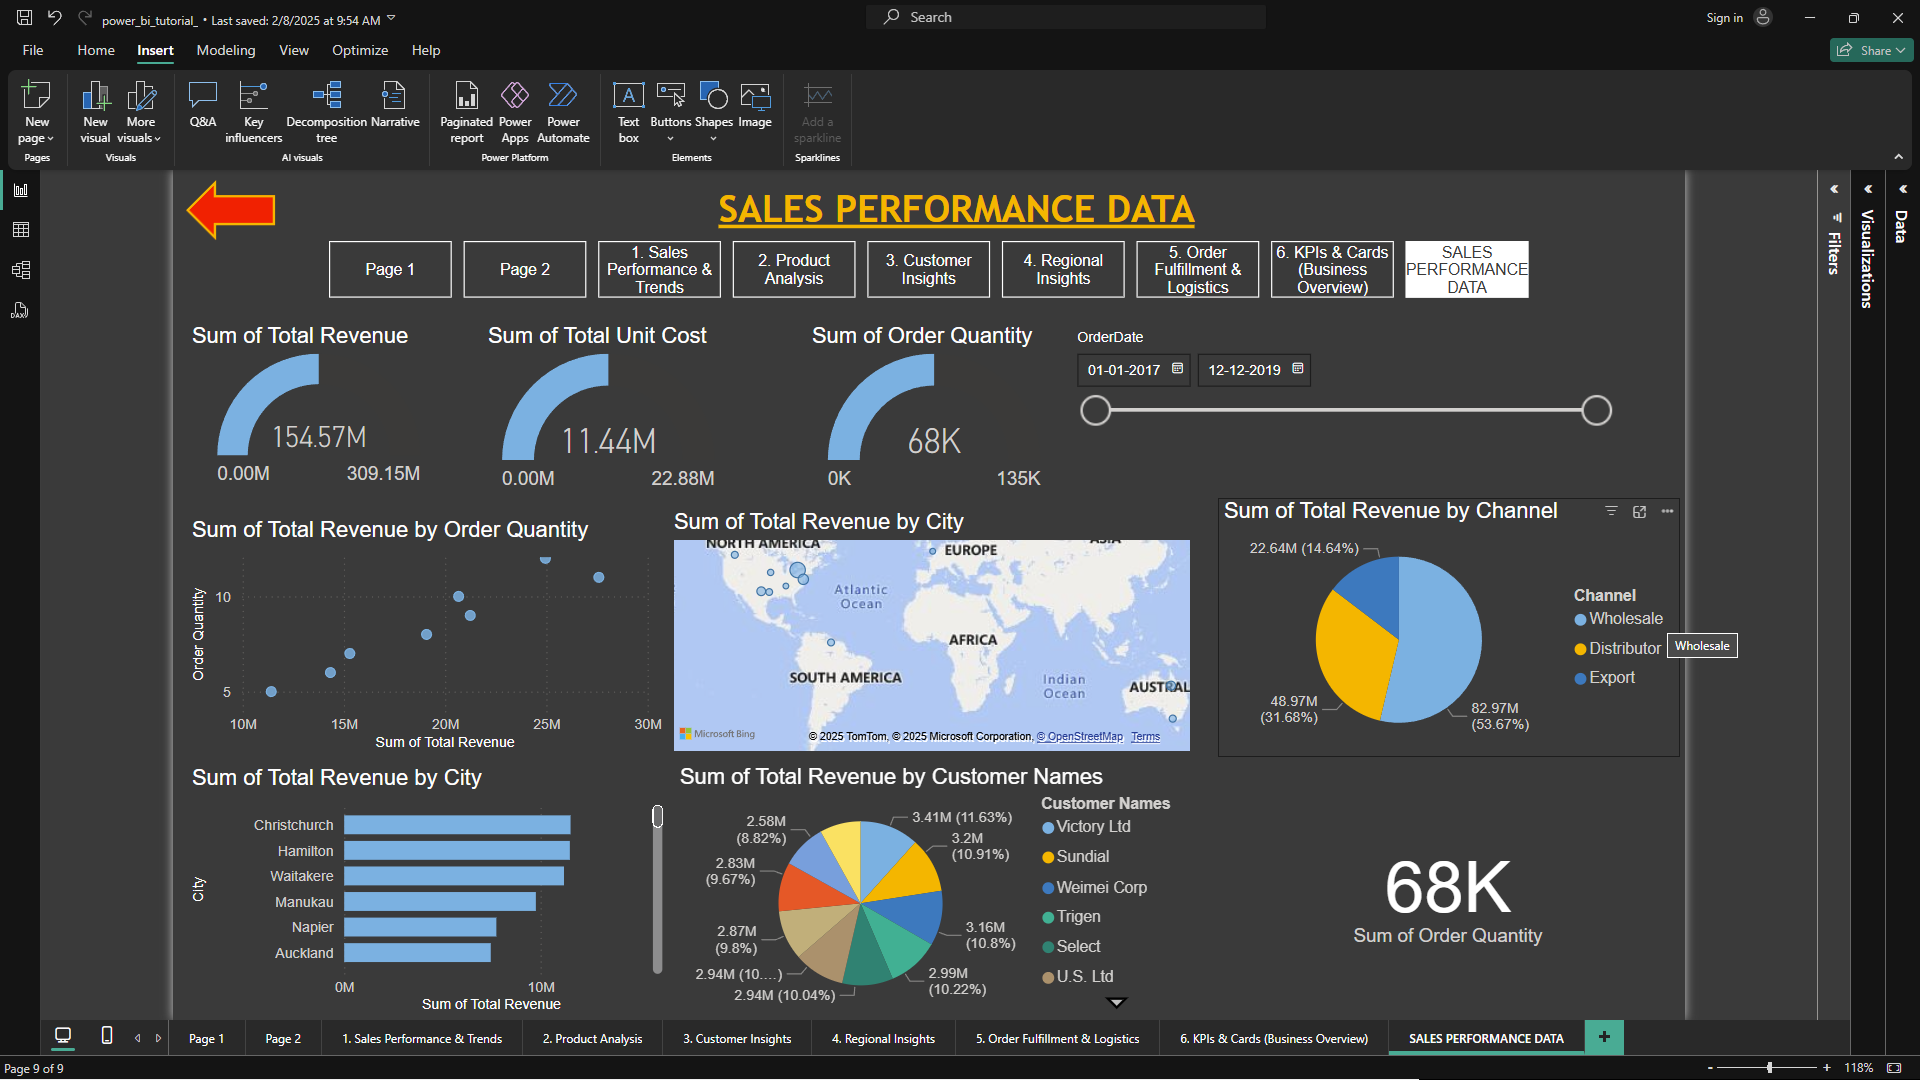

This screenshot's page, from the dashboard's own definition file:
{"tool":"powerbi","page":{"name":"SALES PERFORMANCE DATA","canvas":[1280,720],"ordinal":6},"visuals":[{"type":"gauge","fields":{"Y":["Sum(Sales_Data.Total Revenue)"]},"box":[11,130,225,144],"z":0},{"type":"gauge","fields":{"Y":["Sum(Sales_Data.Total Unit Cost)"]},"box":[262,130,214,148],"z":1000},{"type":"gauge","fields":{"Y":["Sum(Sales_Data.Order Quantity)"]},"box":[536,130,217,148],"z":2000},{"type":"scatterChart","fields":{"X":["Sum(Sales_Data.Total Revenue)"],"Y":["Sales_Data.Order Quantity"]},"box":[11,294,408,203],"z":3000},{"type":"map","fields":{"Category":["Regions_Table.City"],"Size":["Sum(Sales_Data.Total Revenue)"]},"box":[419.1,287.2,446.8,209.6],"z":4000},{"type":"barChart","fields":{"Y":["Sum(Sales_Data.Total Revenue)"],"Category":["Regions_Table.City"]},"box":[10.6,504.3,408.5,214.9],"z":5000},{"type":"pieChart","fields":{"Y":["Sum(Sales_Data.Total Revenue)"],"Category":["Customer_Data.Customer Names"]},"box":[424,503,442,215],"z":6000},{"type":"pieChart","fields":{"Y":["Sum(Sales_Data.Total Revenue)"],"Category":["Sales_Data.Channel"]},"box":[885.1,277.7,391.5,219.1],"z":7000},{"type":"slicer","fields":{"Values":["Sales_Data.OrderDate"]},"box":[753,130,474,112],"z":8000},{"type":"card","fields":{"Values":["Sum(Sales_Data.Order Quantity)"]},"box":[895.7,507.4,369.1,207.4],"z":9000},{"type":"shape","box":[10.6,8.5,75.5,51.1],"z":10000},{"type":"pageNavigator","box":[132,60,1022,48],"z":11000},{"type":"textbox","box":[392,9,543,51],"z":12000}]}

Visuals, with their boxes on the page's 1280x720 design canvas (x1, y1, x2, y2). These are canvas units, not pixel positions in the 1920x1080 screenshot, which may show the page scaled, cropped or inside an application window:
gauge - Sum(Sales_Data.Total Revenue): detection(11, 130, 236, 274)
gauge - Sum(Sales_Data.Total Unit Cost): detection(262, 130, 476, 278)
gauge - Sum(Sales_Data.Order Quantity): detection(536, 130, 753, 278)
scatterChart - Sum(Sales_Data.Total Revenue) x Sales_Data.Order Quantity: detection(11, 294, 419, 497)
map - Regions_Table.City x Sum(Sales_Data.Total Revenue): detection(419, 287, 866, 497)
barChart - Sum(Sales_Data.Total Revenue) x Regions_Table.City: detection(11, 504, 419, 719)
pieChart - Sum(Sales_Data.Total Revenue) x Customer_Data.Customer Names: detection(424, 503, 866, 718)
pieChart - Sum(Sales_Data.Total Revenue) x Sales_Data.Channel: detection(885, 278, 1277, 497)
slicer - Sales_Data.OrderDate: detection(753, 130, 1227, 242)
card - Sum(Sales_Data.Order Quantity): detection(896, 507, 1265, 715)
shape: detection(11, 8, 86, 60)
pageNavigator: detection(132, 60, 1154, 108)
textbox: detection(392, 9, 935, 60)
